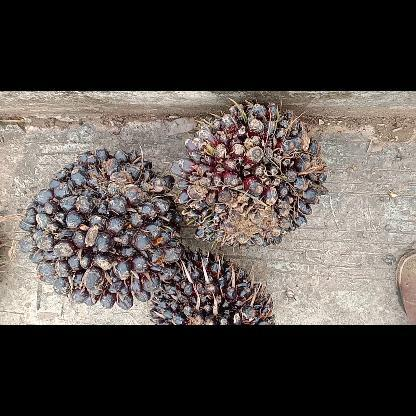TBS mentah: (16, 144, 190, 310), (172, 100, 332, 250), (149, 246, 282, 324)
